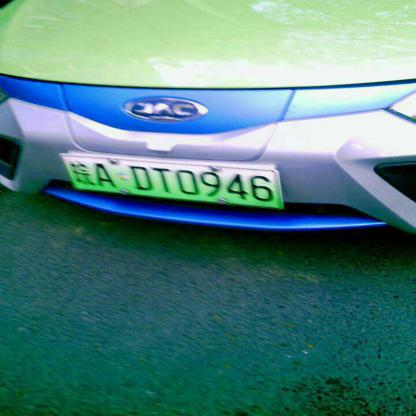lp: (58, 154, 282, 209)
